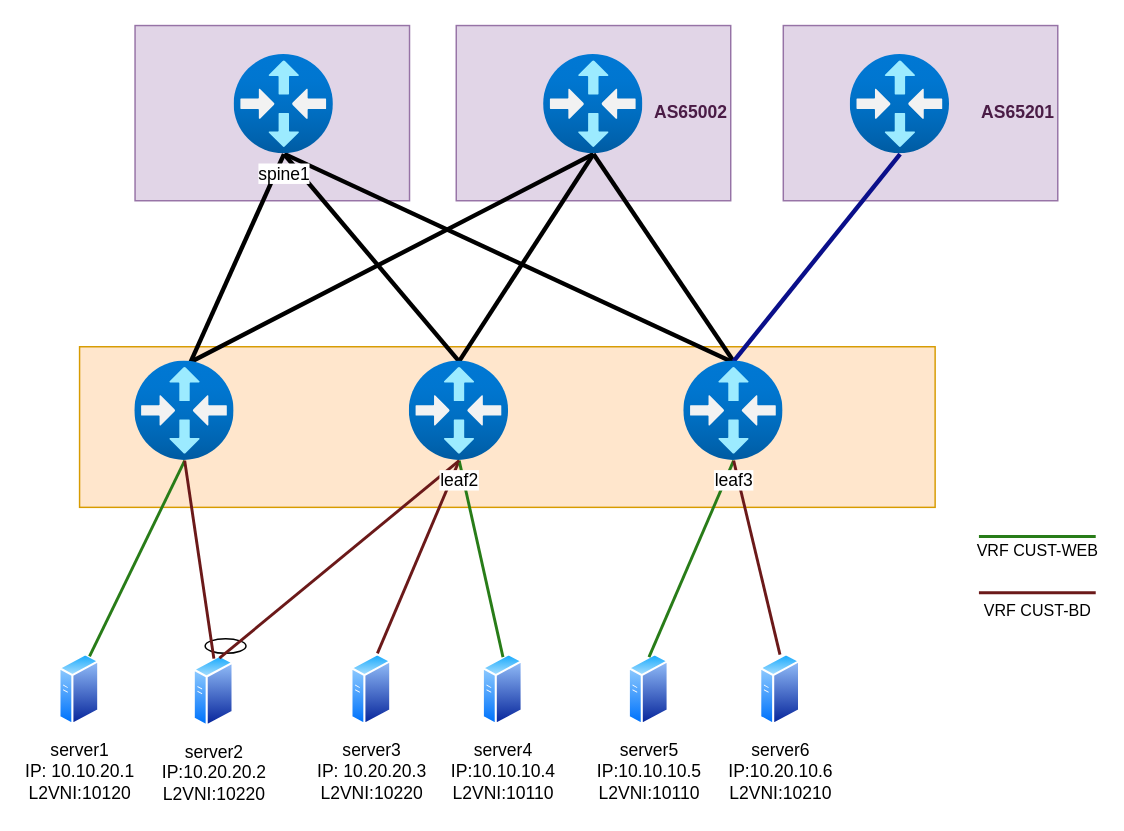
Image size: 1124x831. Some labels were removed from this diagram. Each missing label, with the box of its shape:
AS65001: (134, 24, 410, 201)
AS65100: (78, 345, 935, 507)
border1: (850, 54, 949, 153)
leaf1: (134, 361, 234, 460)
spine2: (543, 54, 642, 153)
